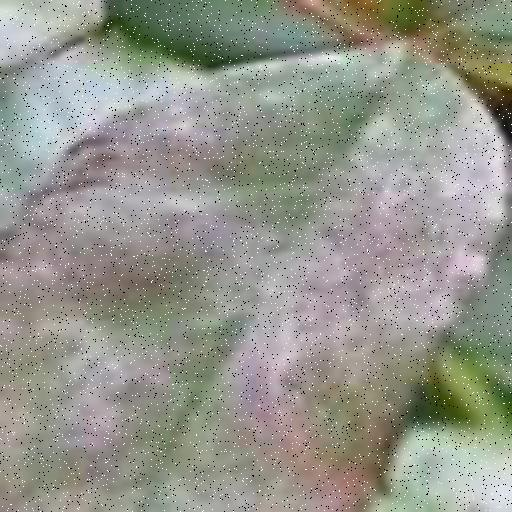powdery_mildew: (0, 44, 508, 512)
